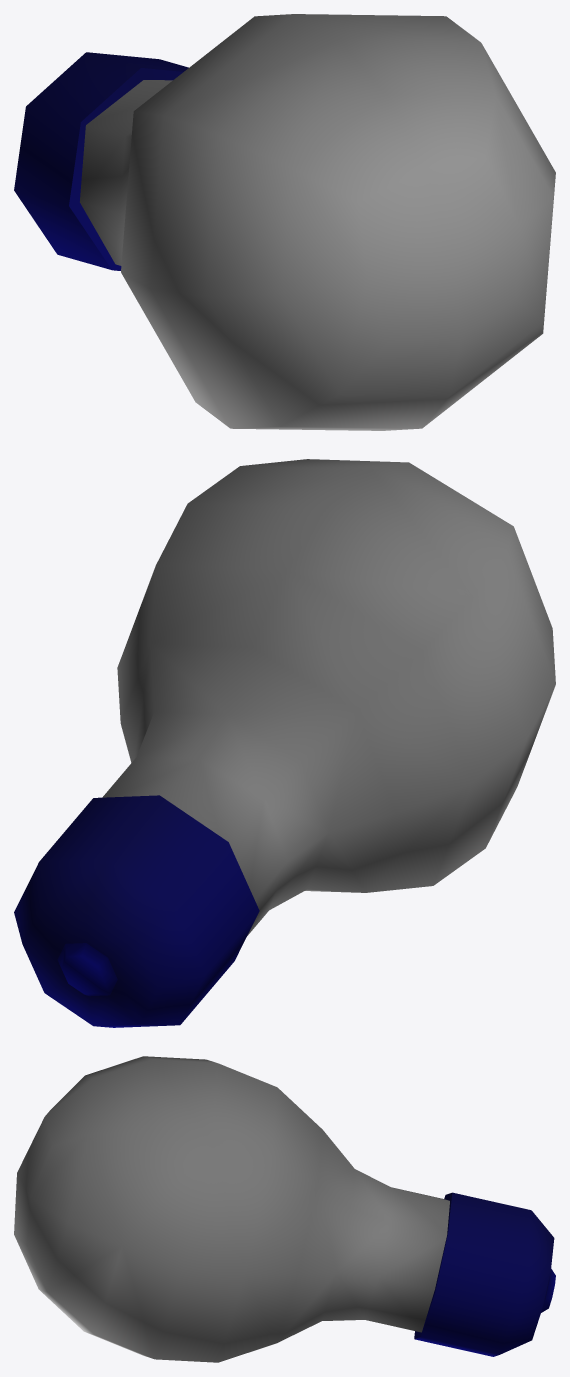
The model's file is LightBulb.glb.
The picture shows the model from 3 angles, top to bottom: view 1: azimuth 30°, elevation 25°; view 2: azimuth 150°, elevation 25°; view 3: azimuth 270°, elevation 25°; orthographic projection. The views are drawn at different scales.
Visible parts, largest first — view 1: LightBulb; view 2: LightBulb; view 3: LightBulb.
Boxes of the visible parts, x1,y1,x2,y2 form: LightBulb: (14,14,555,430); LightBulb: (14,459,555,1027); LightBulb: (14,1056,555,1362).
Bounding box in the file's own units: 5.05 × 5.06 × 8.62.
